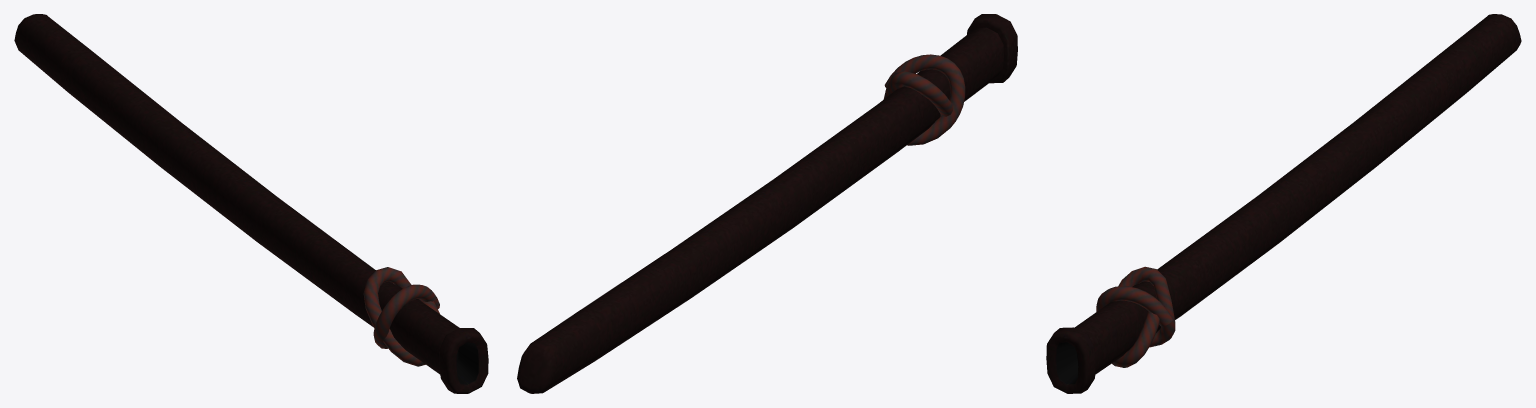
The model's file is Scabbard.glb.
3 renders of one model, left to right at view 1: azimuth 30°, elevation 25°; view 2: azimuth 150°, elevation 25°; view 3: azimuth 330°, elevation 25°, orthographic. The views are drawn at different scales.
Parts seen in each view (by area): view 1: Cube.001; view 2: Cube.001; view 3: Cube.001.
Part boxes in pixels (x1,y1,x2,y2): Cube.001: (14,14,488,393); Cube.001: (517,14,1017,393); Cube.001: (1046,14,1521,393).
Size of the model in its own units: 0.0749 by 0.0774 by 0.8475.
Materials: 1 (1 with a texture image).
